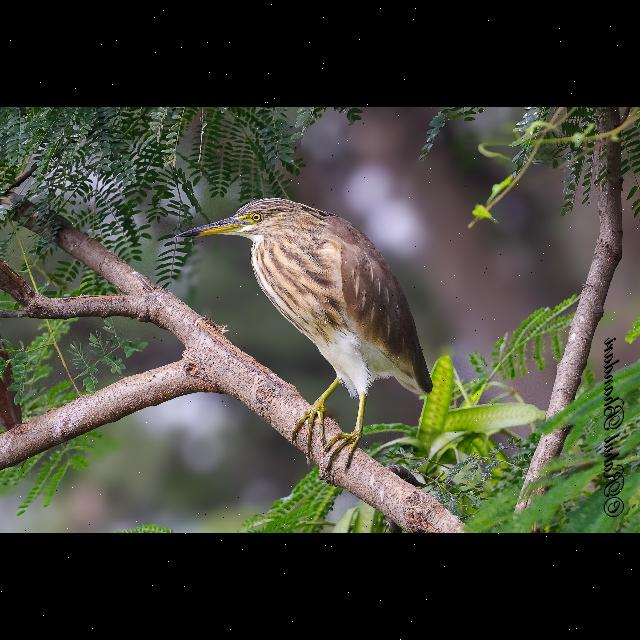heron: (174, 190, 438, 482)
